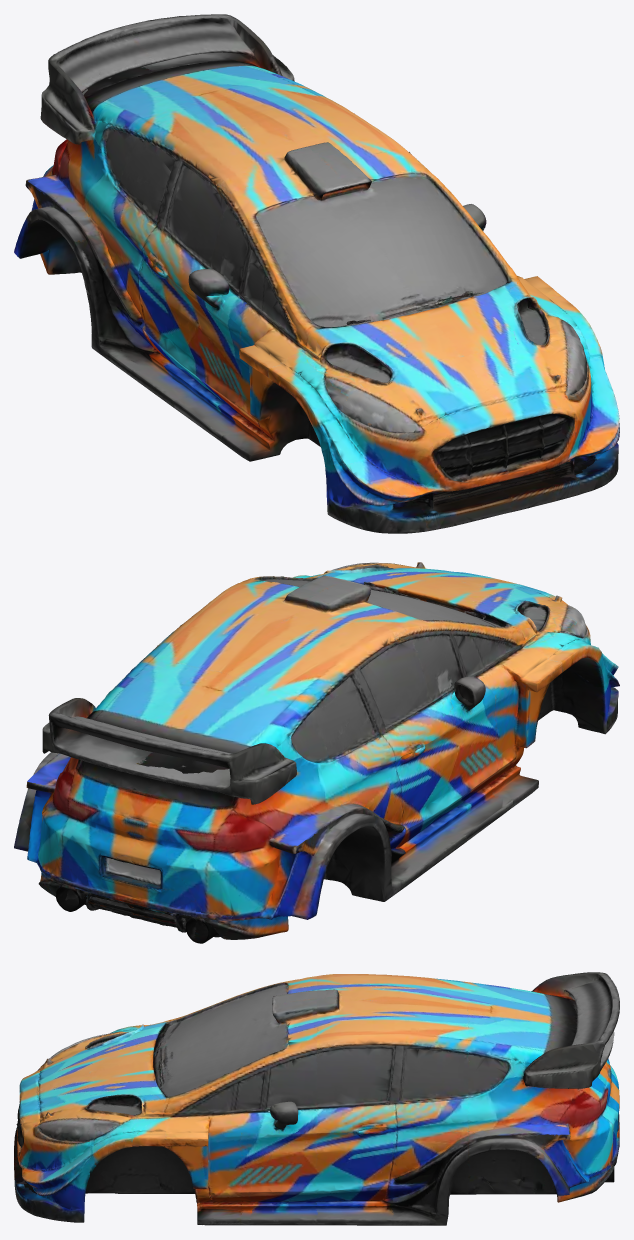
Rendered from car_kodiak_raid_opt.glb.
3 renders of one model, top to bottom at view 1: azimuth 30°, elevation 25°; view 2: azimuth 150°, elevation 25°; view 3: azimuth 270°, elevation 25°, orthographic. The views are drawn at different scales.
Visible parts, largest first — view 1: tmp80ijktzwobj; view 2: tmp80ijktzwobj; view 3: tmp80ijktzwobj.
Boxes of the visible parts, <box> form: tmp80ijktzwobj: <box>14,14,619,533</box>; tmp80ijktzwobj: <box>14,562,619,943</box>; tmp80ijktzwobj: <box>14,972,619,1225</box>.
Bounding box in the file's own units: 0.4545 × 0.3152 × 1.
Materials: 1 (1 with a texture image).
